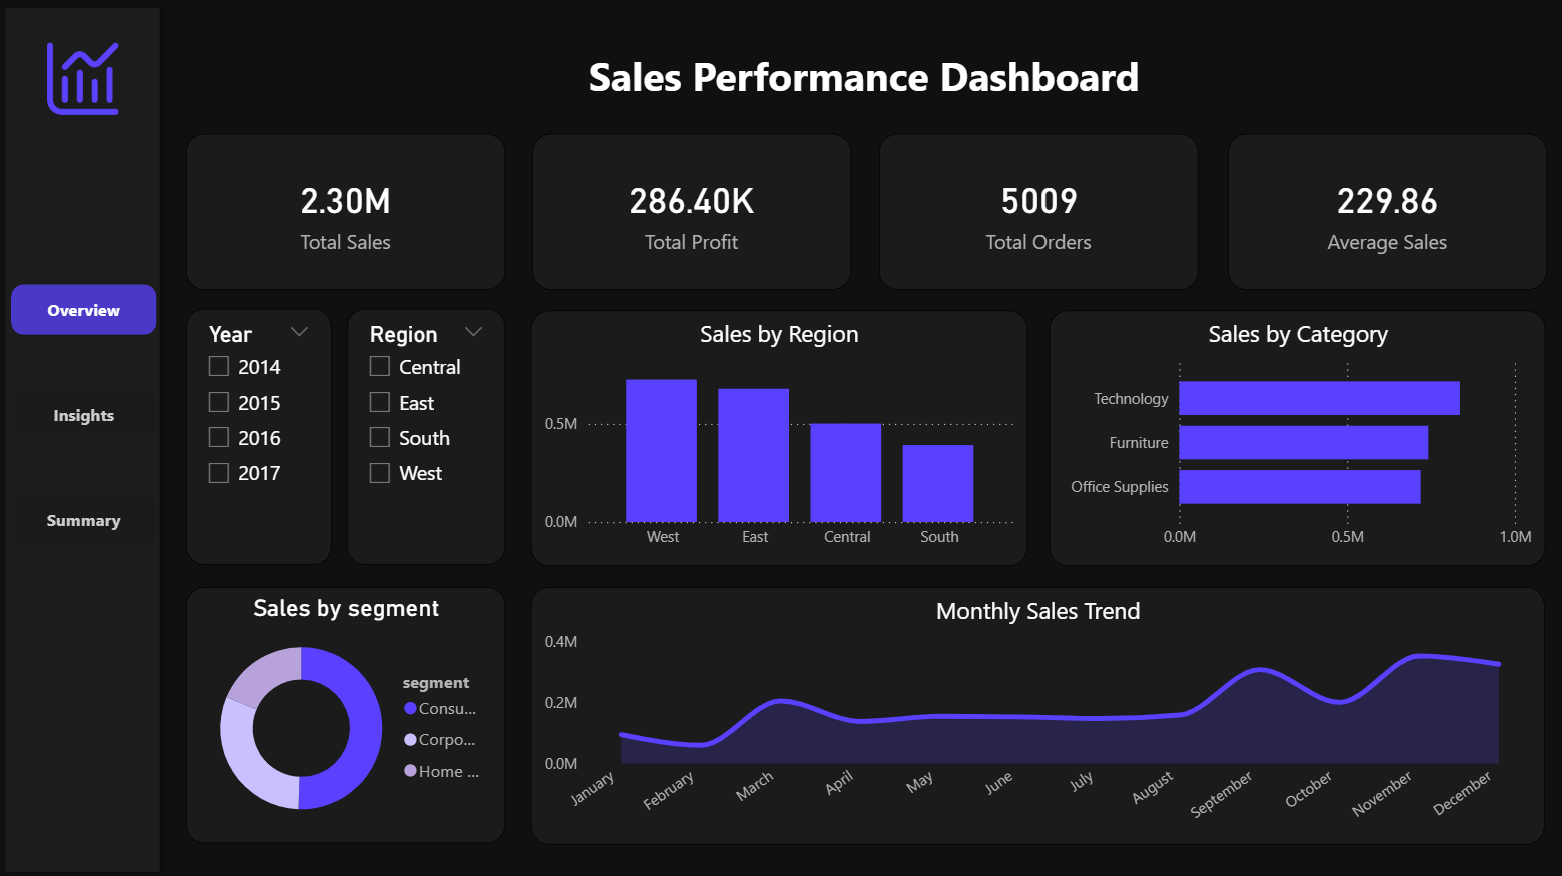

What the dashboard file says about the page in this screenshot:
{"tool":"powerbi","page":{"name":"Overview","canvas":[1280,720],"ordinal":0},"visuals":[{"type":"card","fields":{"Values":["Sum(cleaned_superstore.sales)"]},"box":[155,109.6,260.6,127.6],"z":0},{"type":"card","fields":{"Values":["Sum(cleaned_superstore.profit)"]},"box":[436.8,109.6,260,127.6],"z":1000},{"type":"card","fields":{"Values":["Count(cleaned_superstore.order_id)"]},"box":[720.1,110.1,260,127.6],"z":2000},{"type":"card","fields":{"Values":["Avg(cleaned_superstore.sales)"]},"box":[1003.7,110.1,260,127.6],"z":3000},{"type":"clusteredColumnChart","title":"Sales by Region","fields":{"Category":["cleaned_superstore.region"],"Y":["Sum(cleaned_superstore.sales)"]},"box":[436.3,253.7,405,208.8],"z":4000},{"type":"clusteredBarChart","title":"Sales by Category","fields":{"Category":["cleaned_superstore.category"],"Y":["Sum(cleaned_superstore.sales)"]},"box":[858.2,253.7,404.8,208.8],"z":5000},{"type":"lineChart","title":"Monthly Sales Trend","fields":{"Y":["Sum(cleaned_superstore.sales)"],"Category":["cleaned_superstore.month_name"]},"box":[436.3,479.5,826.7,210.2],"z":6000},{"type":"textbox","box":[435.9,35.6,544.2,58.9],"z":7000},{"type":"slicer","fields":{"Values":["cleaned_superstore.order_year"]},"box":[155,253.2,118.8,209.2],"z":8000},{"type":"donutChart","title":"Sales by segment","fields":{"Category":["cleaned_superstore.segment"],"Y":["Sum(cleaned_superstore.sales)"]},"box":[155,480.1,260.6,209.2],"z":9000},{"type":"slicer","fields":{"Values":["cleaned_superstore.region"]},"box":[286.1,253.2,129.4,209.2],"z":10000},{"type":"shape","box":[0,0,139.8,719.7],"z":11000},{"type":"actionButton","box":[10.8,232.2,118.8,41.4],"z":12000},{"type":"actionButton","box":[10.8,318.6,118.8,41.4],"z":13000},{"type":"actionButton","box":[10.8,405,118.8,41.4],"z":14000},{"type":"image","box":[21.4,35.7,97.1,58.6],"z":15000}]}

Visuals, with their boxes in screenshot pixels (x1, y1, x2, y2), scaled from the page's 1280x720 canvas onto the 1562x876 screenshot:
card - Sum(cleaned_superstore.sales): 189,133,507,289
card - Sum(cleaned_superstore.profit): 533,133,850,289
card - Count(cleaned_superstore.order_id): 879,134,1196,289
card - Avg(cleaned_superstore.sales): 1225,134,1542,289
"Sales by Region" clusteredColumnChart: 532,309,1027,563
"Sales by Category" clusteredBarChart: 1047,309,1541,563
"Monthly Sales Trend" lineChart: 532,583,1541,839
textbox: 532,43,1196,115
slicer - cleaned_superstore.order_year: 189,308,334,563
"Sales by segment" donutChart: 189,584,507,839
slicer - cleaned_superstore.region: 349,308,507,563
shape: 0,0,171,875
actionButton: 13,283,158,333
actionButton: 13,388,158,438
actionButton: 13,493,158,543
image: 26,43,145,115
